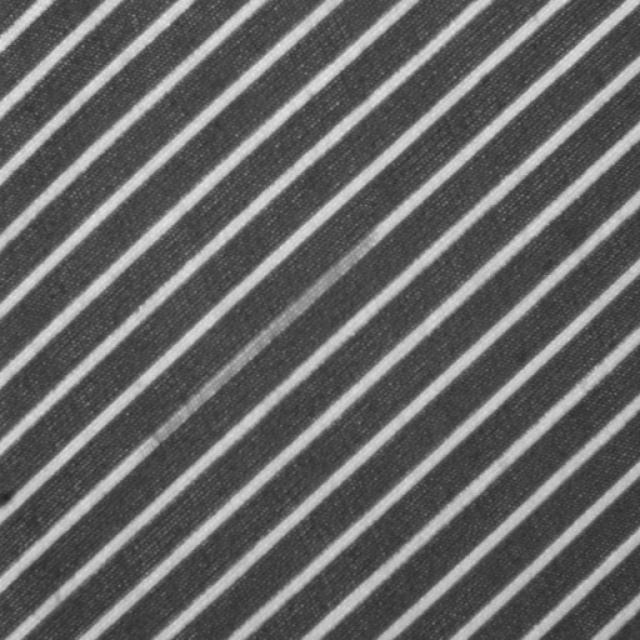Stain-Defect: (148, 232, 379, 449)
